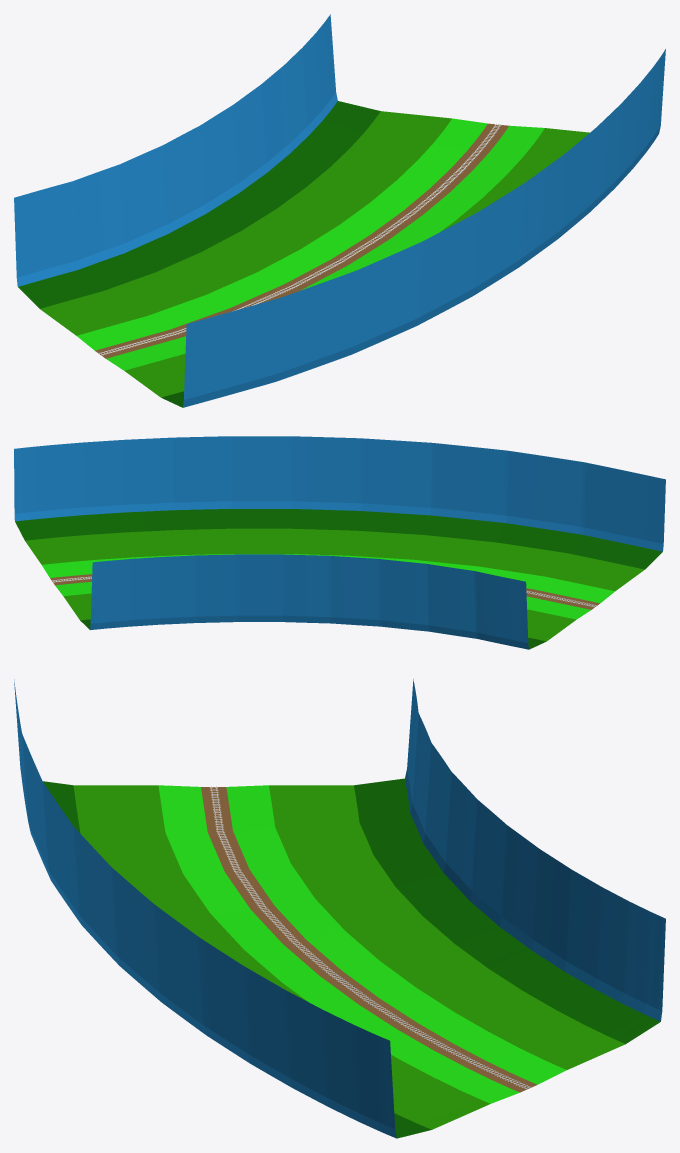
File: A_Curve45_Left.fbx
The picture shows the model from 3 angles, top to bottom: view 1: azimuth 30°, elevation 25°; view 2: azimuth 150°, elevation 25°; view 3: azimuth 270°, elevation 25°; orthographic projection. The views are drawn at different scales.
Visible parts, largest first — view 1: 45ºI; view 2: 45ºI; view 3: 45ºI.
Boxes of the visible parts, x1,y1,x2,y2 form: 45ºI: (14,14,665,407); 45ºI: (14,436,665,649); 45ºI: (14,679,665,1138).
Bounding box in the file's own units: 21472 × 3002 × 16323.
